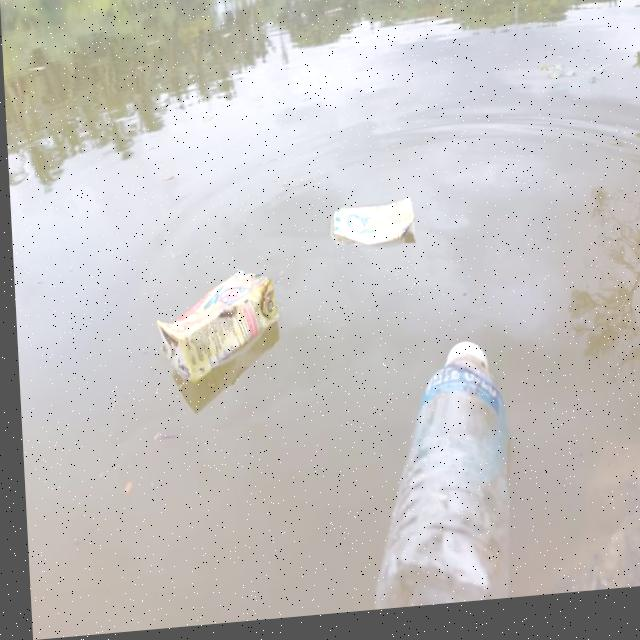paper: (150, 259, 267, 396), (326, 184, 439, 283)
waterbottle: (352, 304, 542, 616)
